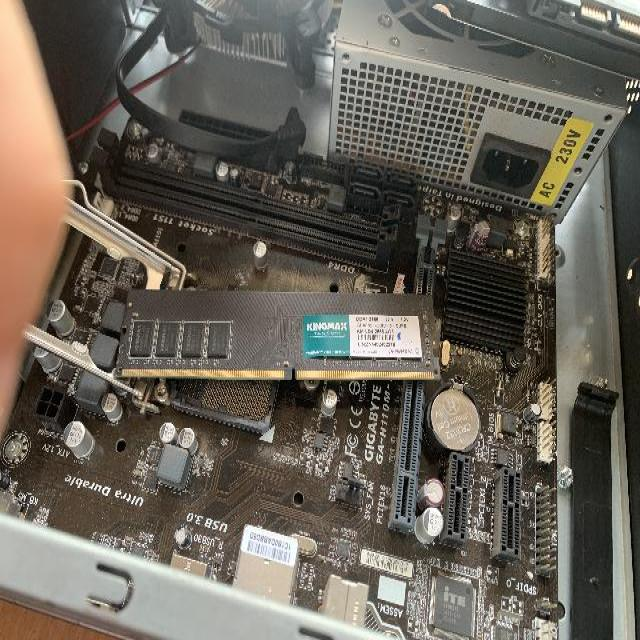Mainboard: (8, 116, 569, 636)
RAM: (113, 287, 440, 384)
